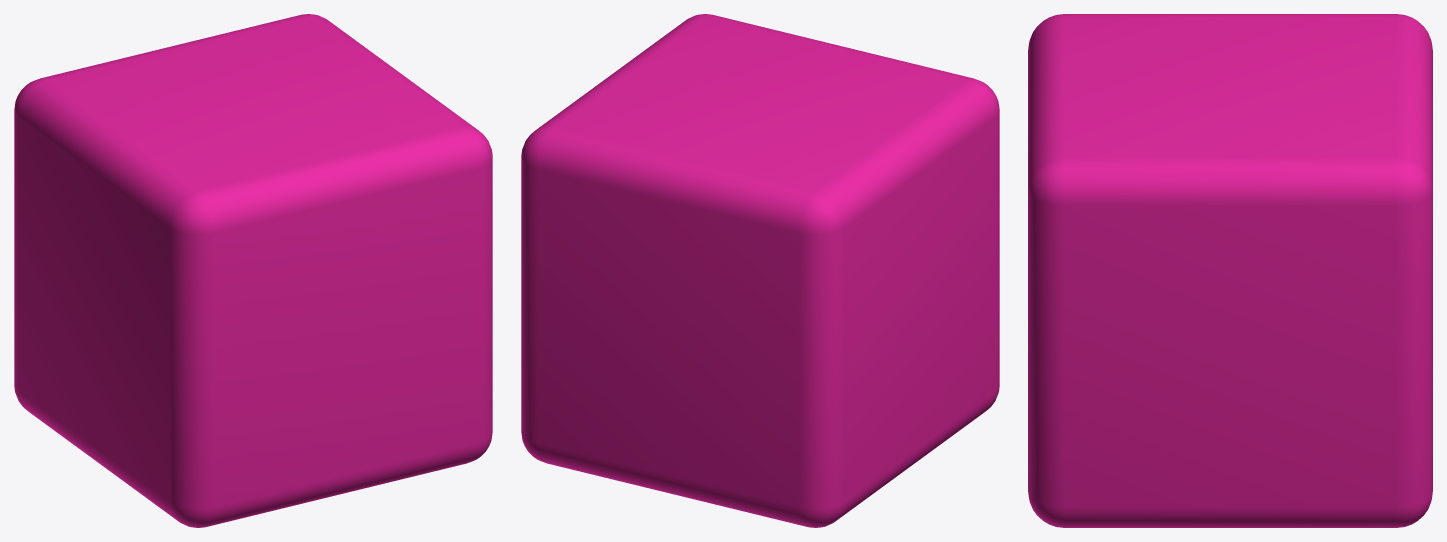
Rendered from diffuseCube.fbx.
3 renders of one model, left to right at view 1: azimuth 30°, elevation 25°; view 2: azimuth 150°, elevation 25°; view 3: azimuth 270°, elevation 25°, orthographic. The views are drawn at different scales.
Visible parts, largest first — view 1: Cube; view 2: Cube; view 3: Cube.
Part boxes in pixels (left/top/right/bottom): Cube: left=14, top=14, right=492, bottom=527; Cube: left=521, top=14, right=999, bottom=527; Cube: left=1028, top=14, right=1432, bottom=527.
Bounding box in the file's own units: 605 × 605 × 605.
